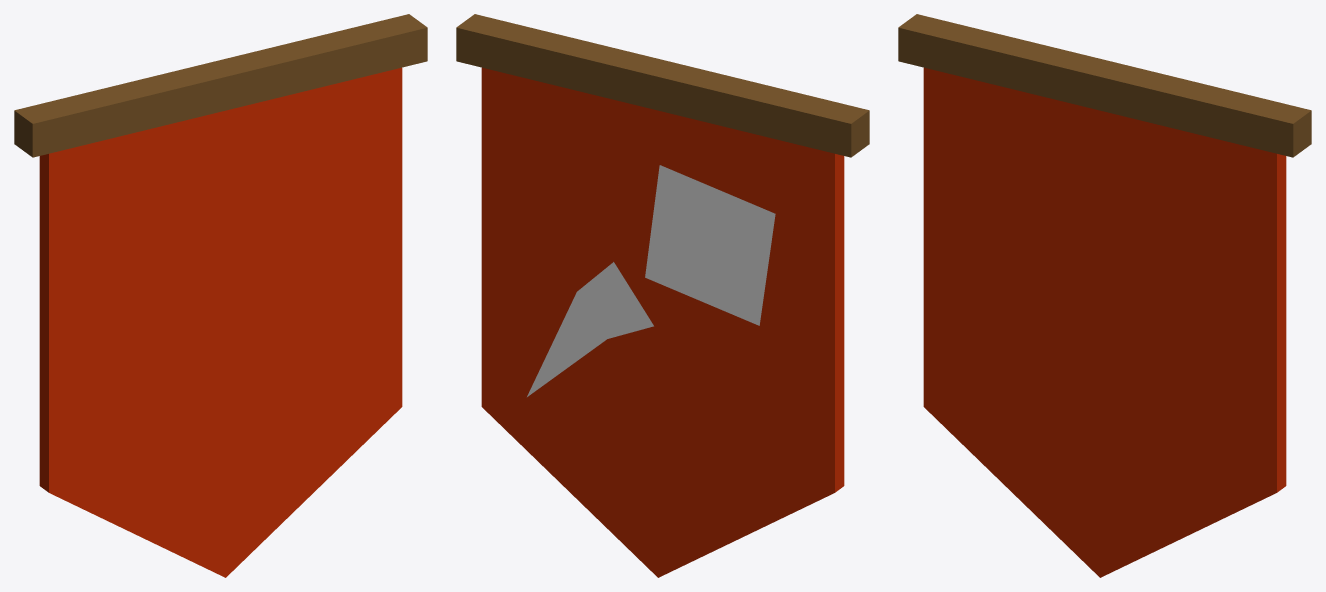
The model's file is catapult_flag.fbx.
3 views of the same model, side by side, from view 1: azimuth 30°, elevation 25°; view 2: azimuth 150°, elevation 25°; view 3: azimuth 330°, elevation 25° (orthographic).
Parts seen in each view (by area): view 1: polySurface219; view 2: polySurface219; view 3: polySurface219.
Boxes of the visible parts, x1,y1,x2,y2 form: polySurface219: (14, 14, 427, 577); polySurface219: (456, 14, 869, 577); polySurface219: (898, 14, 1311, 577).
Bounding box in the file's own units: 25.03 × 30.62 × 2.04.
1 material, 1 textured.
